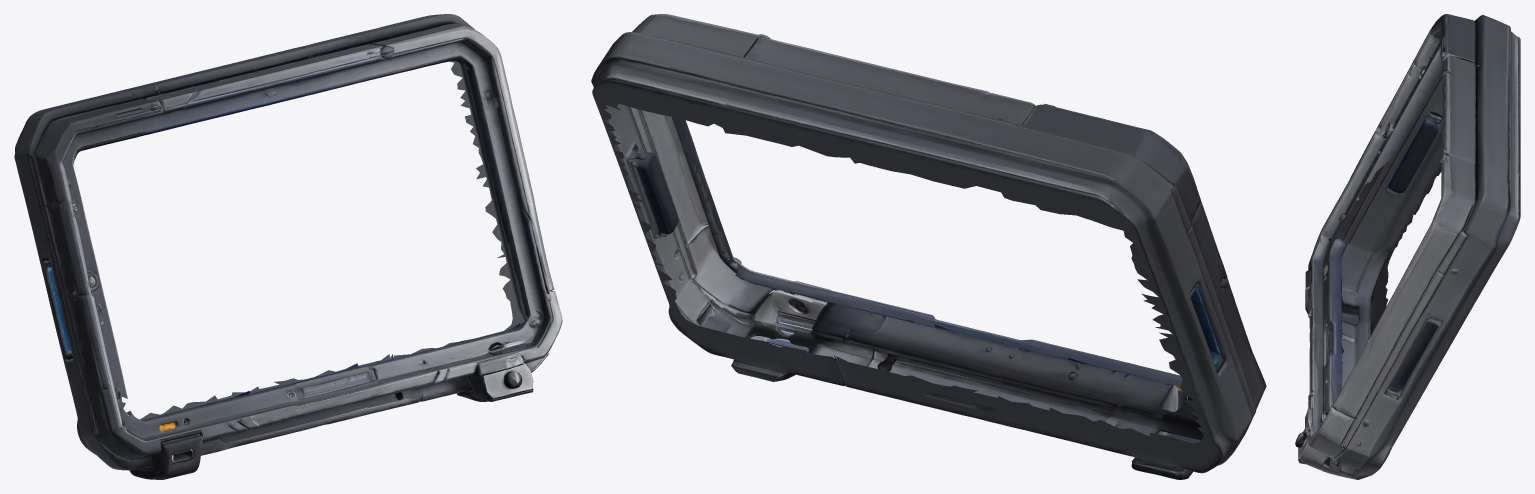
Rendered from monitor-frame-2k.glb.
3 renders of one model, left to right at view 1: azimuth 30°, elevation 25°; view 2: azimuth 150°, elevation 25°; view 3: azimuth 270°, elevation 25°, orthographic. The views are drawn at different scales.
Visible parts, largest first — view 1: tripo_part_0, tripo_part_4, tripo_part_5; view 2: tripo_part_0, tripo_part_5, tripo_part_4; view 3: tripo_part_0, tripo_part_5, tripo_part_4.
Boxes of the visible parts, left/top/right/bottom form: tripo_part_0: left=14, top=14, right=562, bottom=470; tripo_part_4: left=129, top=434, right=202, bottom=479; tripo_part_5: left=456, top=363, right=533, bottom=401; tripo_part_0: left=591, top=14, right=1266, bottom=473; tripo_part_5: left=731, top=291, right=825, bottom=381; tripo_part_4: left=1131, top=385, right=1200, bottom=479; tripo_part_0: left=1305, top=14, right=1520, bottom=476; tripo_part_5: left=1295, top=429, right=1369, bottom=479; tripo_part_4: left=1305, top=270, right=1358, bottom=324.
Size of the model in its own units: 0.9798 by 0.656 by 0.4538.
3 materials, 3 textured.
